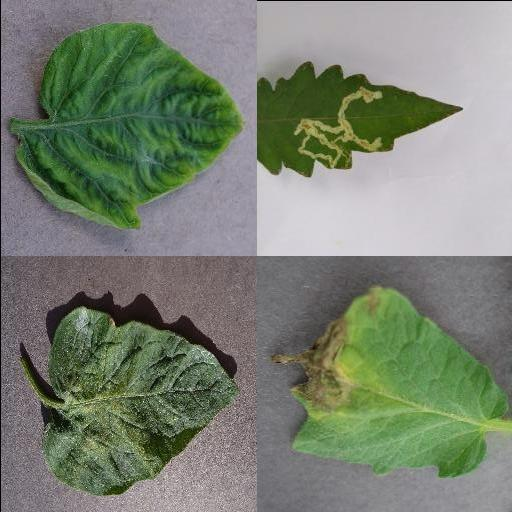Late Blight: (274, 281, 508, 479)
Leaf Miner: (256, 59, 465, 179)
Spider Mites: (39, 304, 241, 494)
Yellow Leaf Curl Virus: (13, 22, 243, 232)
